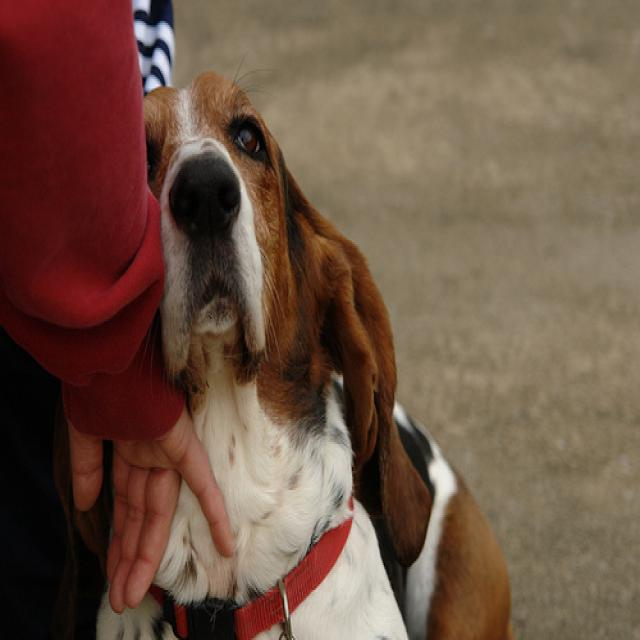dog-basset_hound: (91, 67, 518, 636)
